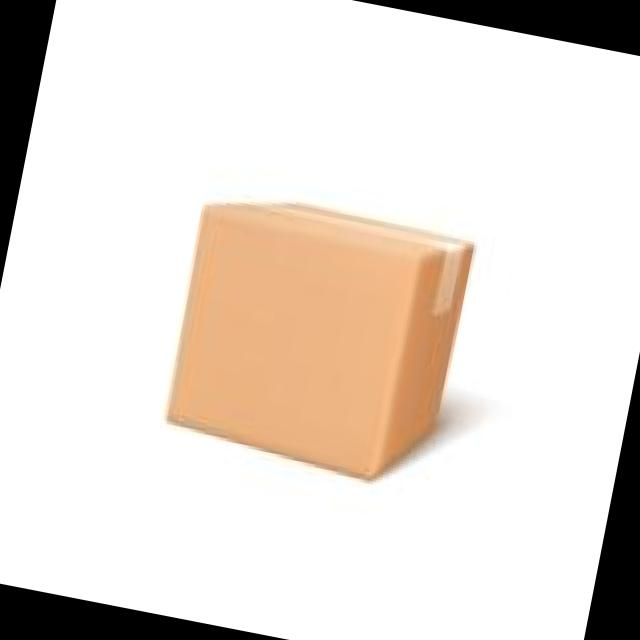box: (0, 22, 455, 474)
tear: (294, 171, 346, 205)
